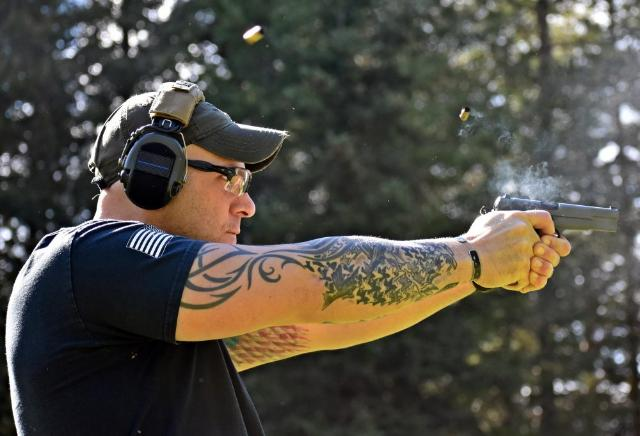handgun: (476, 191, 624, 289)
